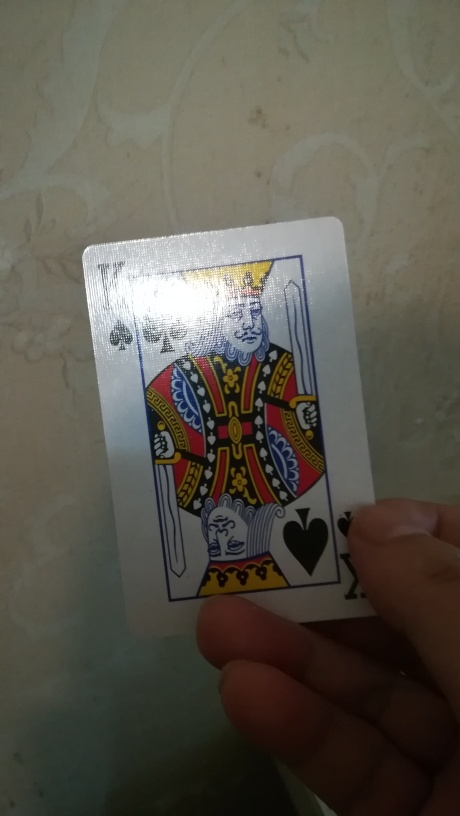ht k: (72, 217, 391, 641)
